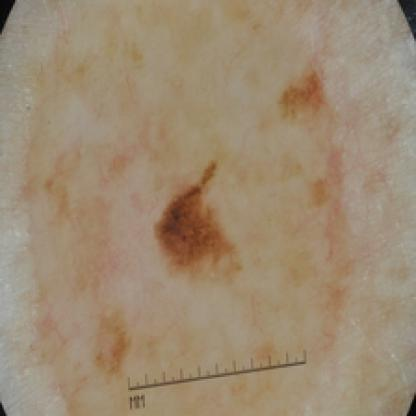malignant: (136, 174, 268, 280)
